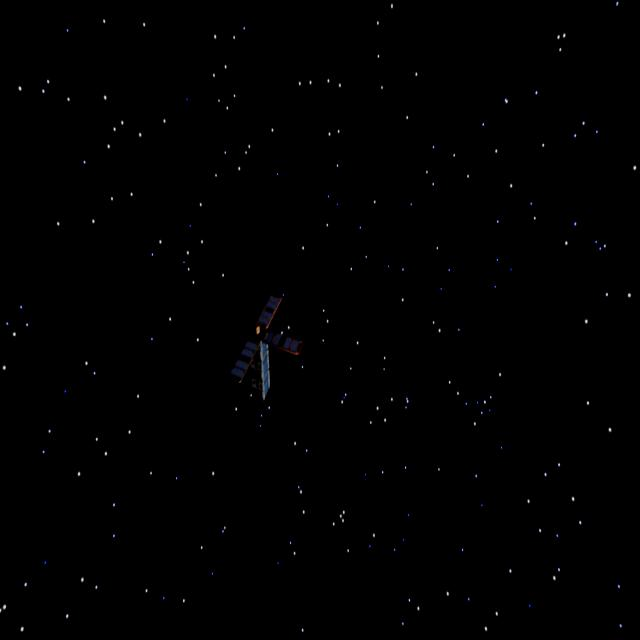medium_debris: (209, 286, 318, 419)
